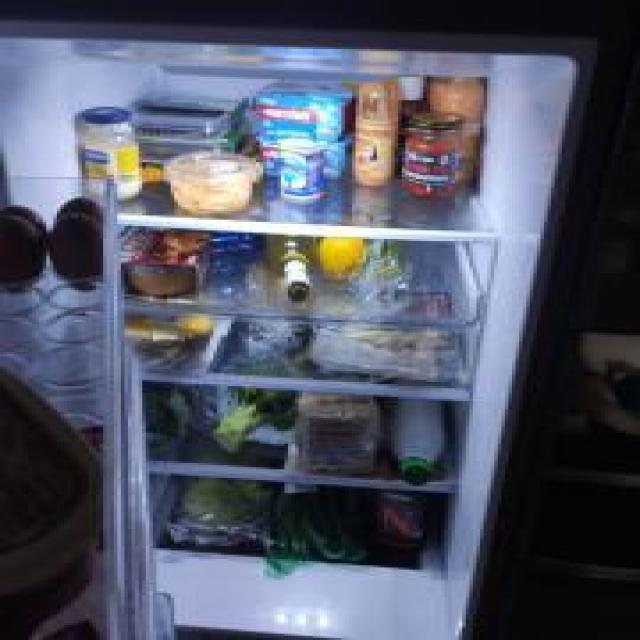asparagus: (352, 238, 409, 312)
bread: (298, 388, 381, 482)
broccoli: (213, 386, 299, 457)
egg: (48, 214, 105, 292), (0, 213, 46, 286), (55, 198, 105, 230)
green_beans: (272, 487, 368, 575)
humus: (119, 229, 208, 304), (165, 148, 258, 214)
lemon: (318, 238, 368, 283)
mayonaise: (74, 108, 146, 197)
milk: (386, 394, 460, 483)
pineapple: (119, 310, 215, 376)
salad: (181, 479, 267, 556)
tomato_sauce: (400, 112, 468, 204)
yogurt: (256, 138, 348, 182), (279, 138, 325, 202)
